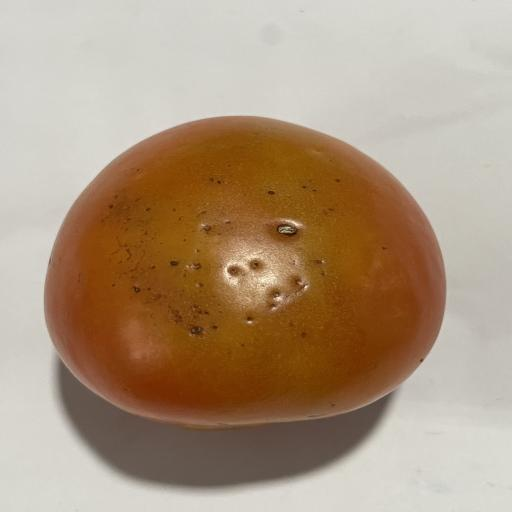unripe: (45, 116, 445, 429)
